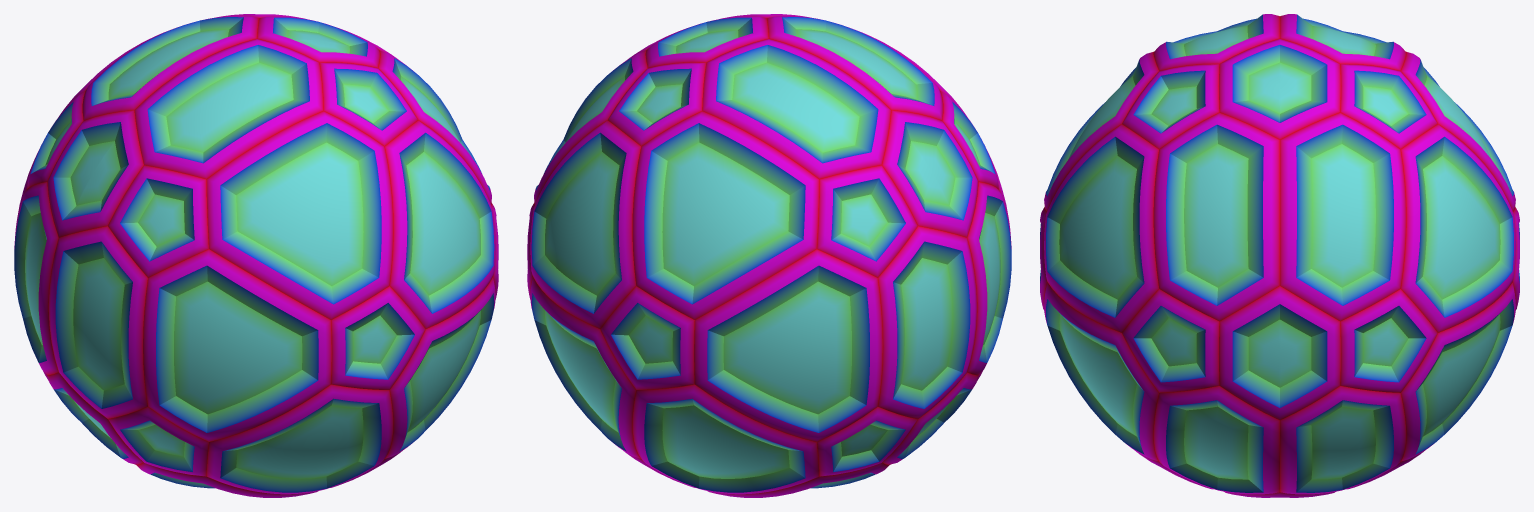
File: IcoBall.fbx
3 views of the same model, side by side, from view 1: azimuth 30°, elevation 25°; view 2: azimuth 150°, elevation 25°; view 3: azimuth 270°, elevation 25° (orthographic).
Visible parts, largest first — view 1: IcoBall; view 2: IcoBall; view 3: IcoBall.
Boxes of the visible parts, <box> form: IcoBall: <box>14,14,498,497</box>; IcoBall: <box>527,14,1011,497</box>; IcoBall: <box>1040,14,1519,497</box>.
Bounding box in the file's own units: 98.92 × 98.81 × 99.86.
